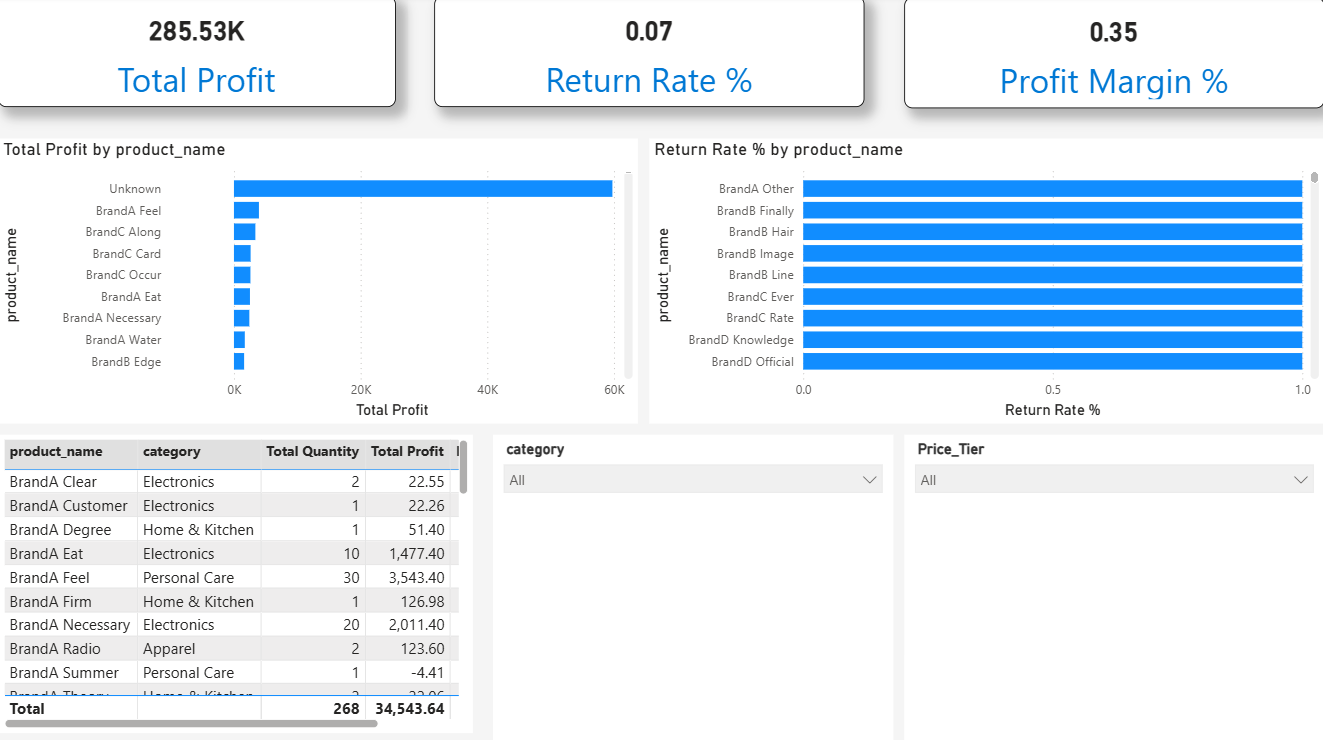

The dashboard page shown, as its layout file describes it:
{"tool":"powerbi","page":{"name":"PRODUCT PERFORMANCE","canvas":[1280,720],"ordinal":2},"visuals":[{"type":"card","fields":{"Values":["sql_sales.Total Profit"]},"box":[0,0,383.6,107.4],"z":0},{"type":"card","fields":{"Values":["sql_returns.Return Rate %"]},"box":[421,0,415,107.4],"z":1000},{"type":"card","fields":{"Values":["sql_sales.Profit Margin %"]},"box":[874.7,1.2,405.4,107.4],"z":2000},{"type":"barChart","fields":{"Category":["sql_product.product_name"],"Y":["sql_sales.Total Profit"]},"box":[0,137.5,617.7,275.1],"z":3000},{"type":"barChart","fields":{"Category":["sql_product.product_name"],"Y":["sql_returns.Return Rate %"]},"box":[628.6,137.5,651.5,275.1],"z":4000},{"type":"tableEx","fields":{"Values":["sql_product.product_name","sql_product.category","sql_sales.Total Quantity","sql_sales.Total Profit","sql_returns.Return Rate %"]},"box":[0,423.5,458.4,288.3],"z":5000},{"type":"slicer","fields":{"Values":["sql_product.category"]},"box":[477.8,423.5,386.1,296.8],"z":6000},{"type":"slicer","fields":{"Values":["sql_product.Price_Tier"]},"box":[874.7,423.5,405.4,296.8],"z":7000}]}

Visuals, with their boxes in screenshot pixels (x1, y1, x2, y2), scaled from the page's 1280x720 canvas onto the 1323x740 screenshot:
card - sql_sales.Total Profit: box=[0, 0, 396, 110]
card - sql_returns.Return Rate %: box=[435, 0, 864, 110]
card - sql_sales.Profit Margin %: box=[904, 1, 1322, 112]
barChart - sql_product.product_name x sql_sales.Total Profit: box=[0, 141, 638, 424]
barChart - sql_product.product_name x sql_returns.Return Rate %: box=[650, 141, 1322, 424]
tableEx - sql_product.product_name x sql_product.category: box=[0, 435, 474, 732]
slicer - sql_product.category: box=[494, 435, 893, 739]
slicer - sql_product.Price_Tier: box=[904, 435, 1322, 739]
